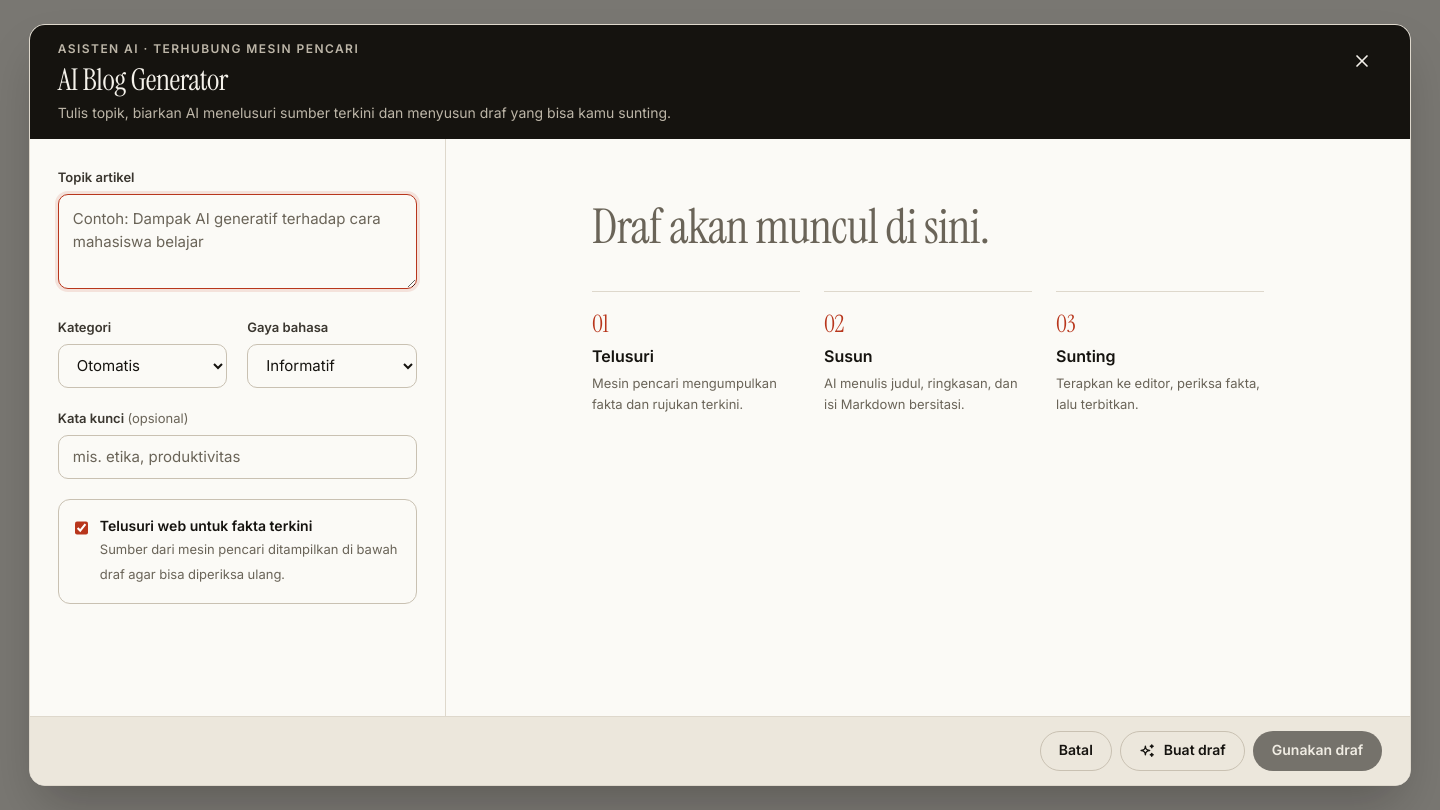
Test: AiPostGeneratorModal › starts idle and requires a topic
The image size is (1440, 810).
Check: the text "Draf akan muncul di sini." is shown, box x1=592 y1=195 x2=989 y2=258
Check: the button "Gunakan draf" is disabled, box x1=1253 y1=731 x2=1382 y2=771
Click the button "Buat draf" at [1182, 751], box x1=1120 y1=731 x2=1245 y2=771
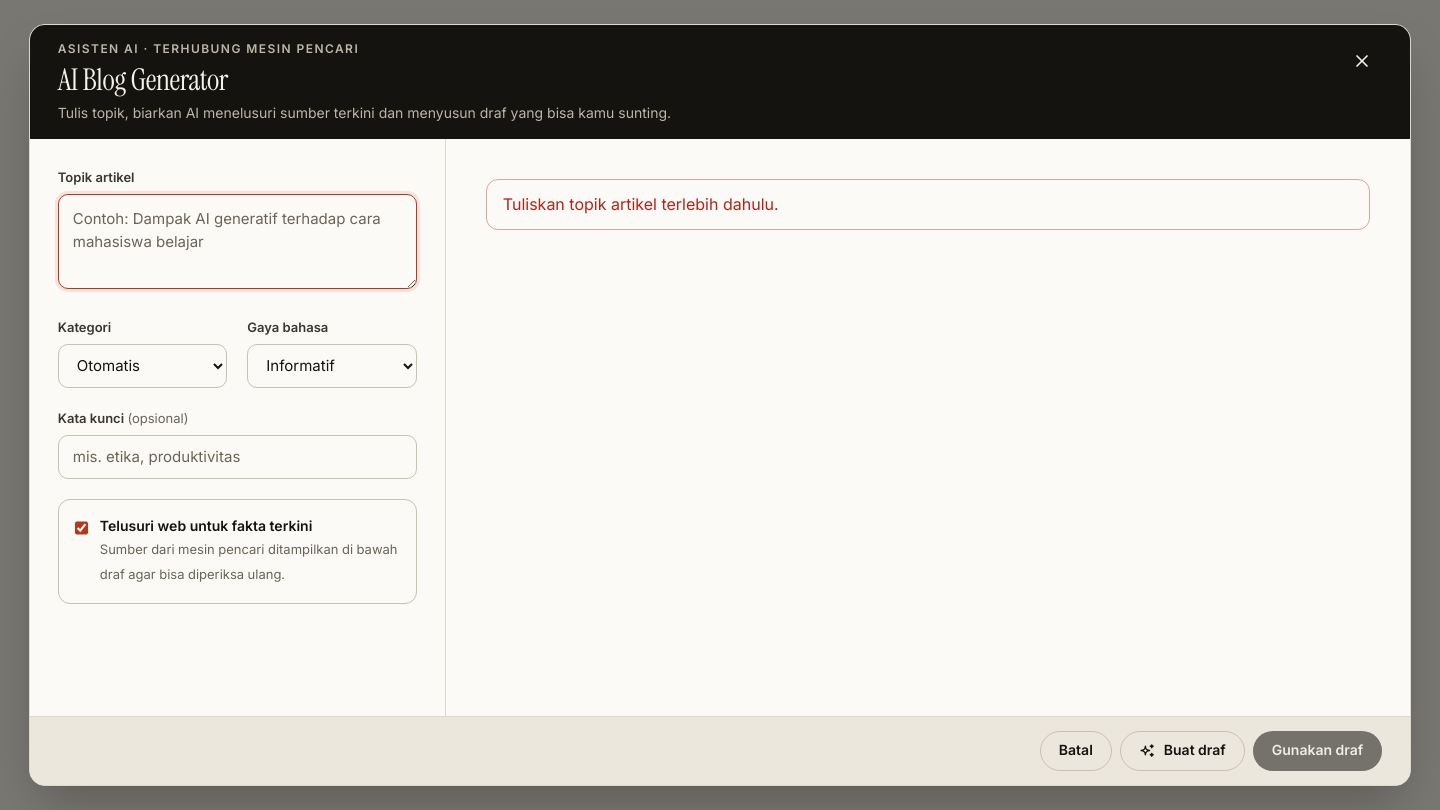
Check: the message reads "Tuliskan topik artikel terlebih dahulu.", box x1=503 y1=194 x2=779 y2=214
